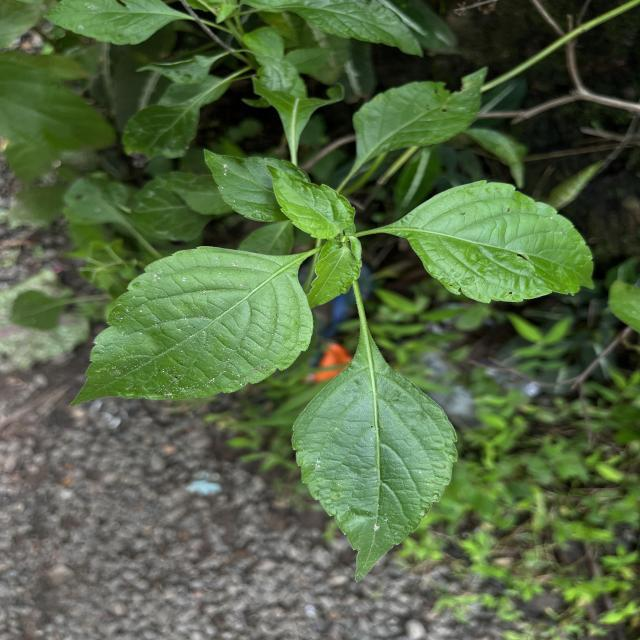Ocimum gratissimum: (286, 308, 464, 585), (66, 241, 318, 416), (382, 177, 598, 306), (262, 161, 358, 242)
